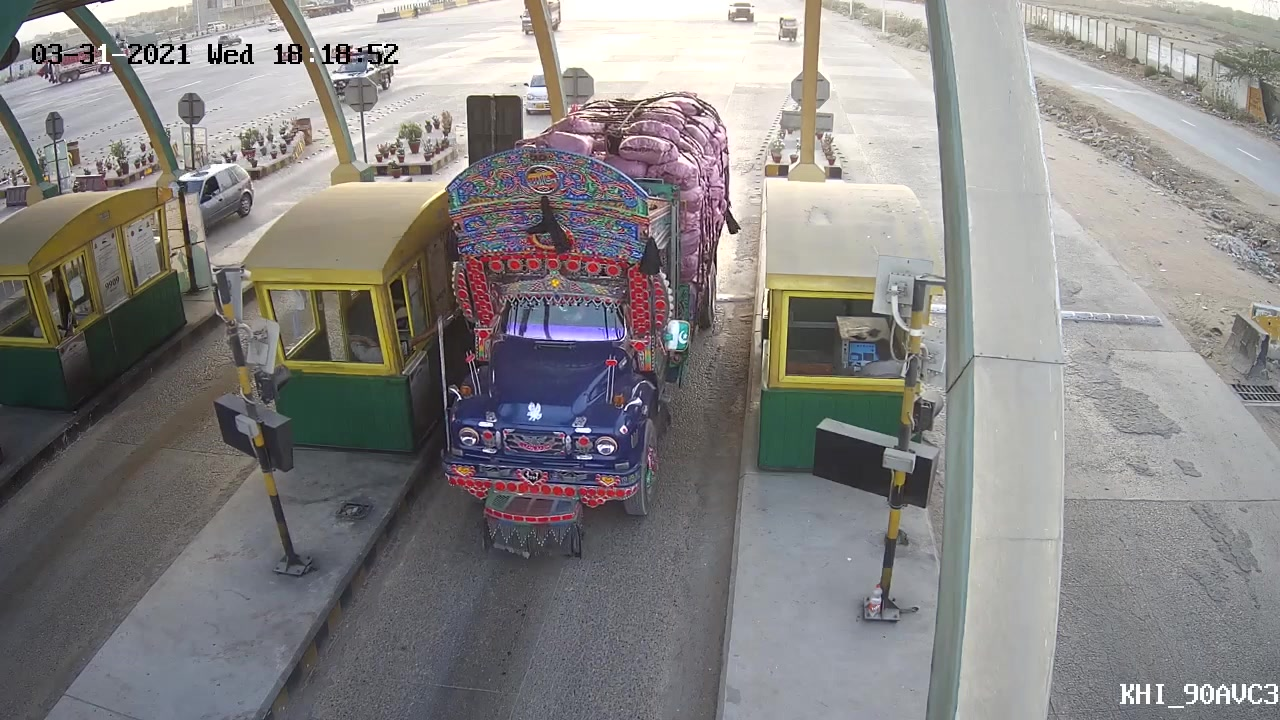F5: (427, 92, 742, 571)
